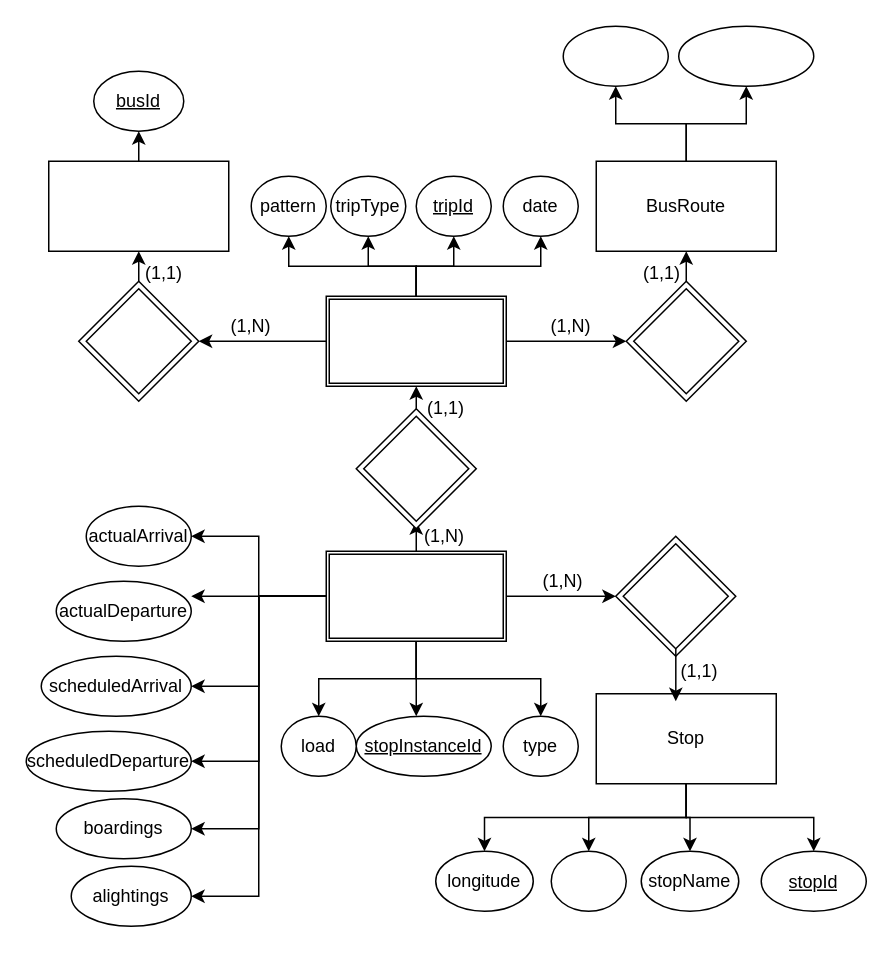
Some shapes in this 893 by 953 pixel diagram are drawn without their labels. The box of each missing label's shape, as (x1, y1, x2, y2) in pixels:
Bus: (47, 160, 229, 251)
busRouteId: (677, 25, 814, 86)
BusTrip: (325, 295, 506, 386)
CONTAINS: (622, 542, 728, 649)
GOES_TO: (632, 287, 739, 394)
HAS: (362, 415, 469, 521)
latitude: (550, 850, 626, 911)
routeName: (562, 25, 668, 86)
StopInstance: (325, 550, 506, 641)
USES: (85, 287, 191, 394)
